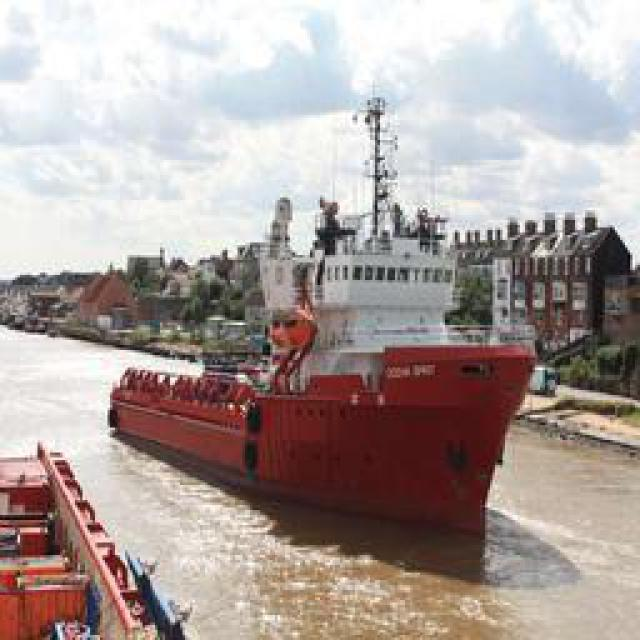Ship: (116, 282, 534, 540)
